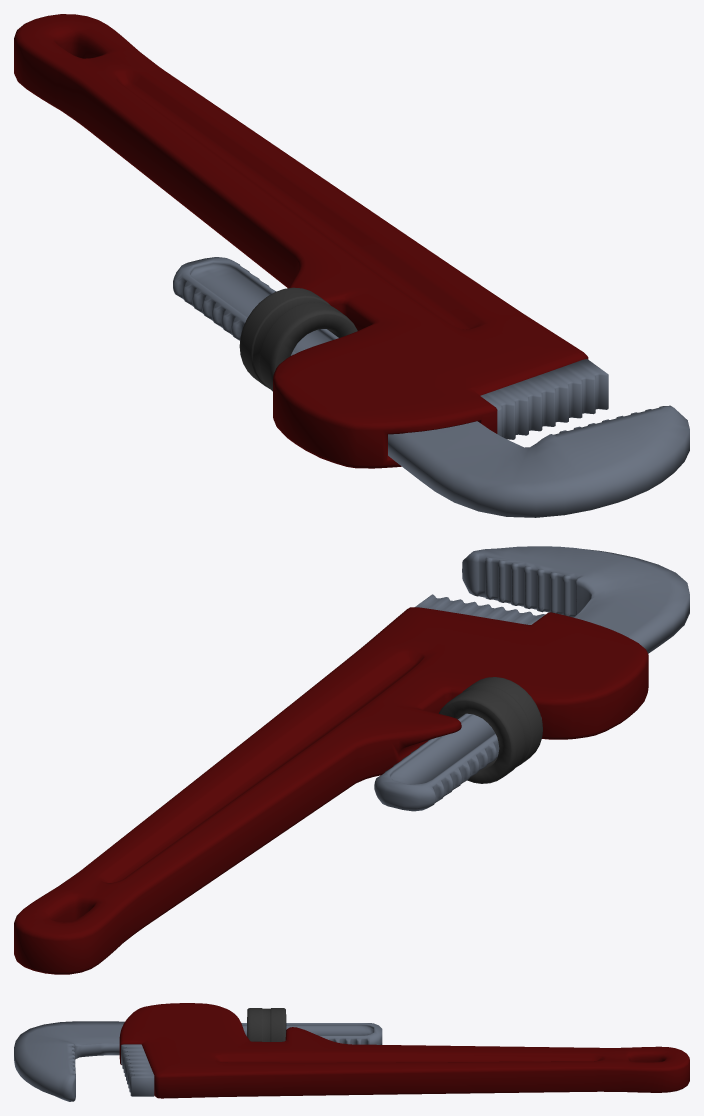
Rendered from wrench.fbx.
3 renders of one model, top to bottom at view 1: azimuth 30°, elevation 25°; view 2: azimuth 150°, elevation 25°; view 3: azimuth 270°, elevation 25°, orthographic. The views are drawn at different scales.
Parts seen in each view (by area): view 1: Wrench; view 2: Wrench; view 3: Wrench.
Part boxes in pixels (x1=…): Wrench: x1=14, y1=14, x2=689, y2=517; Wrench: x1=14, y1=546, x2=689, y2=974; Wrench: x1=14, y1=1003, x2=689, y2=1101.
Bounding box in the file's own units: 72.75 × 267 × 22.81.
